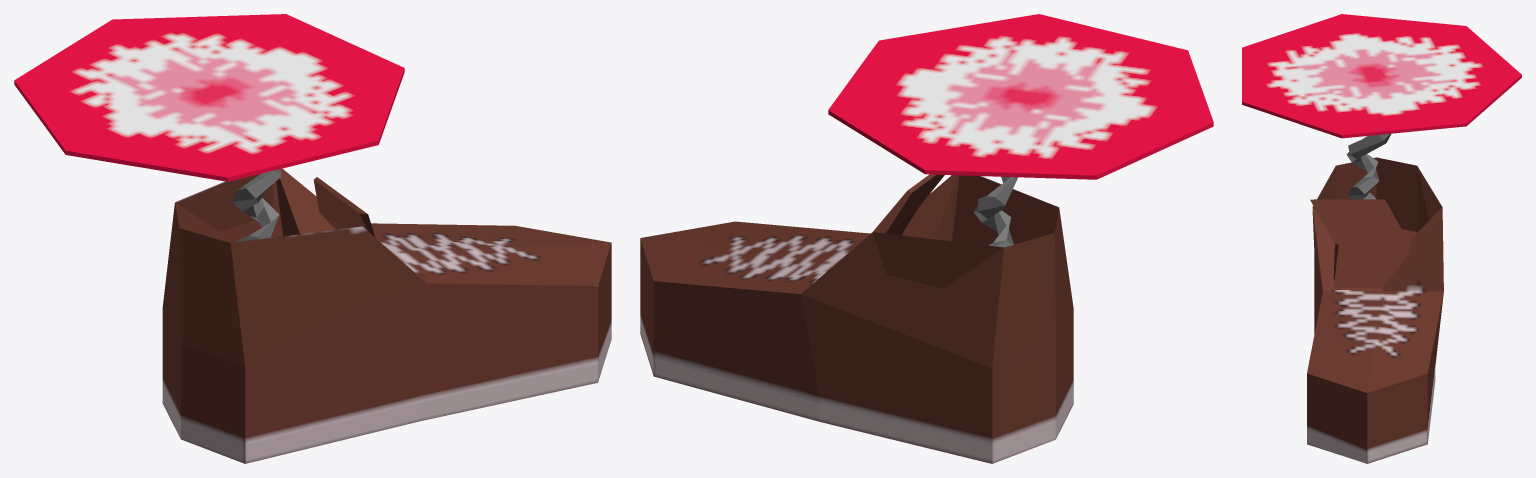
File: DoubleJump.fbx
The picture shows the model from 3 angles, left to right: view 1: azimuth 30°, elevation 25°; view 2: azimuth 150°, elevation 25°; view 3: azimuth 270°, elevation 25°; orthographic projection. The views are drawn at different scales.
Parts seen in each view (by area): view 1: Cube, Cylinder.001, Cylinder; view 2: Cube, Cylinder.001, Cylinder; view 3: Cube, Cylinder.001, Cylinder.
Boxes of the visible parts, bbox=[...] form: Cube: bbox=[162, 168, 611, 463]; Cylinder.001: bbox=[14, 14, 404, 181]; Cylinder: bbox=[232, 169, 281, 242]; Cube: bbox=[640, 174, 1073, 463]; Cylinder.001: bbox=[828, 14, 1213, 179]; Cylinder: bbox=[973, 176, 1017, 247]; Cube: bbox=[1307, 157, 1443, 463]; Cylinder.001: bbox=[1242, 14, 1521, 138]; Cylinder: bbox=[1346, 133, 1391, 199].
Size of the model in its own units: 324 by 186 by 190.
Materials: 3 (3 with a texture image).
